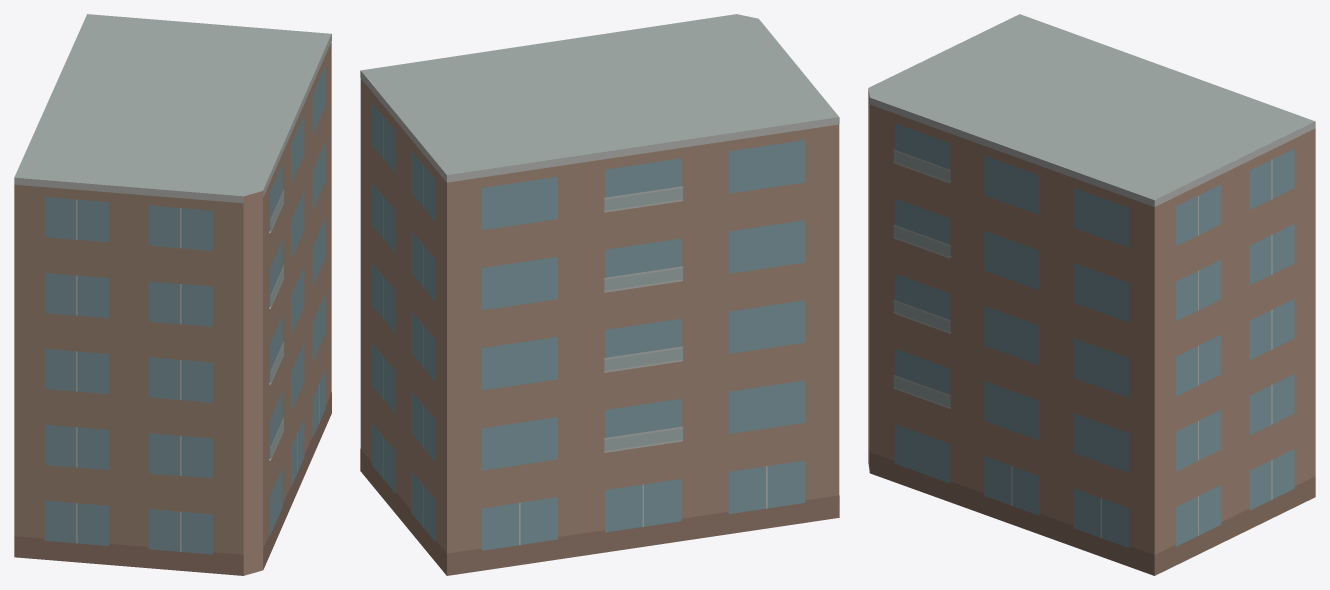
The model's file is survey-upis-33007261.glb.
3 views of the same model, side by side, from view 1: azimuth 30°, elevation 25°; view 2: azimuth 150°, elevation 25°; view 3: azimuth 270°, elevation 25° (orthographic). The views are drawn at different scales.
Visible parts, largest first — view 1: survey-upis-33007261.tmp; view 2: survey-upis-33007261.tmp; view 3: survey-upis-33007261.tmp.
Part boxes in pixels (box(x1,y1,x2,y2)): survey-upis-33007261.tmp: box(14, 14, 331, 575); survey-upis-33007261.tmp: box(360, 14, 839, 575); survey-upis-33007261.tmp: box(868, 14, 1315, 575).
Bounding box in the file's own units: 14.15 × 13.3 × 14.36.
